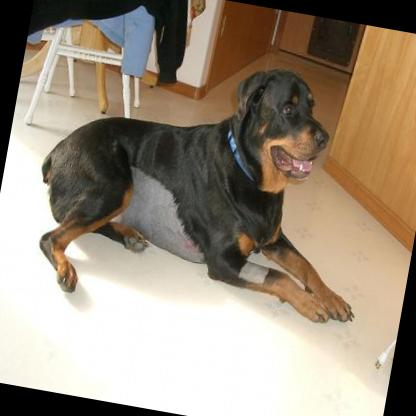Rottweiler: (18, 29, 394, 338)
